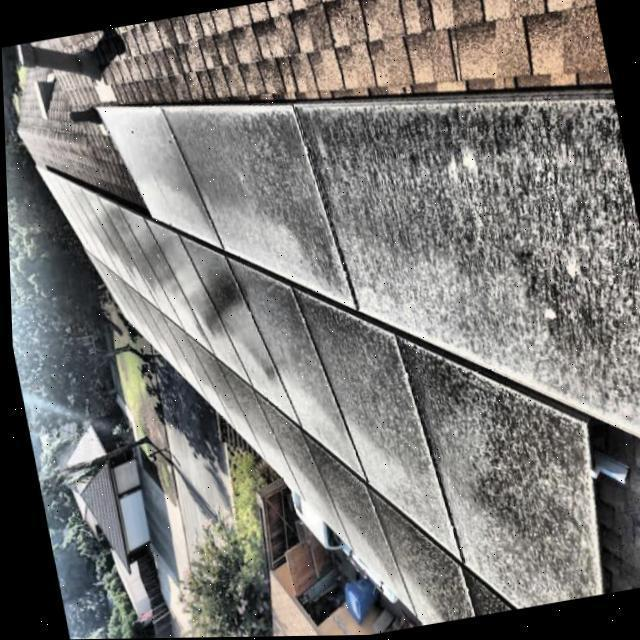Anomaly Solar Panel: (36, 165, 591, 610), (94, 96, 640, 442), (86, 252, 469, 626)
Surface Contaminant: (67, 183, 593, 610), (93, 97, 640, 438), (85, 253, 510, 626)
